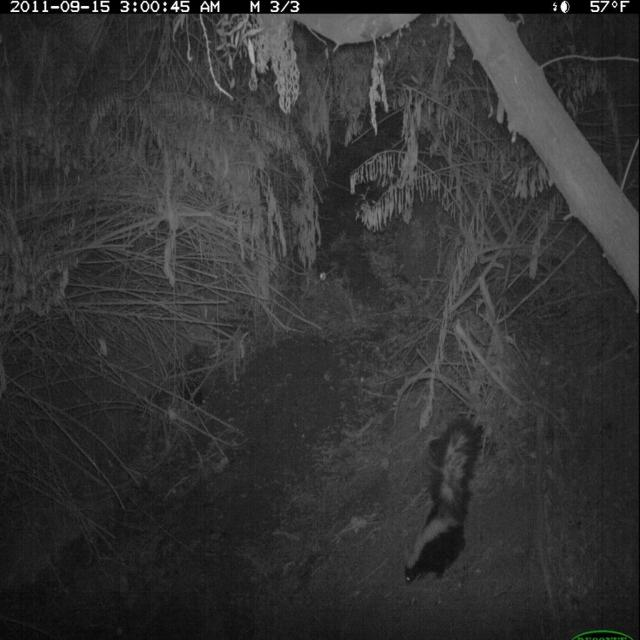skunk: (401, 415, 487, 586)
